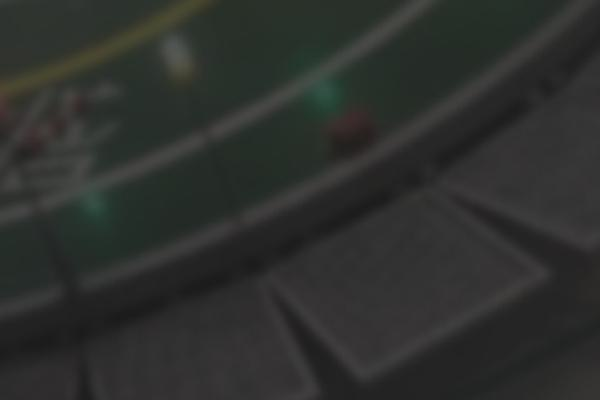Apron: (1, 1, 216, 109)
